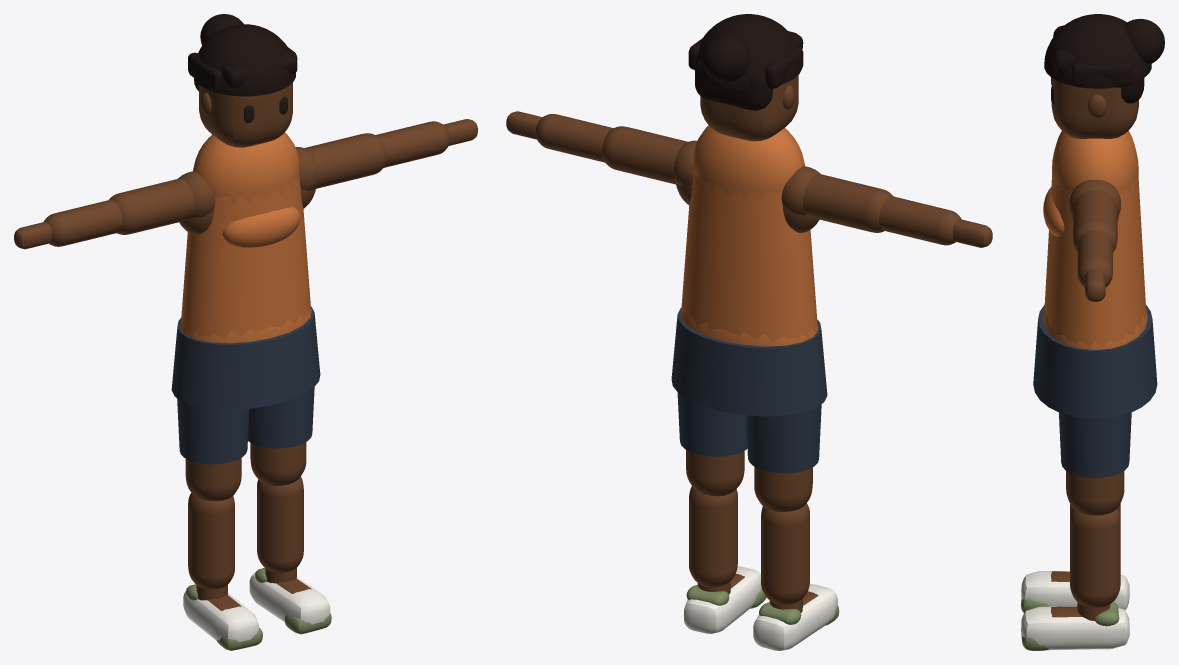
File: amara.glb
3 renders of one model, left to right at view 1: azimuth 30°, elevation 25°; view 2: azimuth 150°, elevation 25°; view 3: azimuth 270°, elevation 25°, orthographic. The views are drawn at different scales.
Parts seen in each view (by area): view 1: amara_tank_body, amara_bottom_waist, amara_top_shoulders, amara_hair_cap, amara_calf_l, amara_calf_r, amara_head, amara_bottom_leg_l, amara_upperarm_l, amara_upperarm_r, amara_bottom_leg_r, amara_forearm_l (+11 smaller); view 2: amara_tank_body, amara_bottom_waist, amara_top_shoulders, amara_calf_l, amara_calf_r, amara_bottom_leg_l, amara_hair_cap, amara_upperarm_l, amara_upperarm_r, amara_bottom_leg_r, amara_head, amara_forearm_l (+13 smaller); view 3: amara_tank_body, amara_bottom_waist, amara_calf_r, amara_hair_cap, amara_top_shoulders, amara_bottom_leg_r, amara_head, amara_shoe_r, amara_thigh_r, amara_upperarm_r, amara_shoe_l, amara_forearm_r (+13 smaller).
Boxes of the visible parts, x1,y1,x2,y2 form: amara_tank_body: [181, 176, 310, 338]; amara_bottom_waist: [171, 306, 320, 409]; amara_top_shoulders: [192, 132, 299, 205]; amara_hair_cap: [194, 24, 295, 96]; amara_calf_l: [188, 493, 234, 589]; amara_calf_r: [257, 476, 303, 572]; amara_head: [199, 82, 292, 147]; amara_bottom_leg_l: [177, 398, 249, 464]; amara_upperarm_l: [109, 178, 195, 234]; amara_upperarm_r: [304, 133, 386, 188]; amara_bottom_leg_r: [248, 387, 314, 448]; amara_forearm_l: [43, 199, 122, 246]; amara_tank_body: [681, 171, 817, 341]; amara_bottom_waist: [671, 308, 827, 416]; amara_top_shoulders: [693, 125, 804, 201]; amara_calf_l: [761, 503, 809, 605]; amara_calf_r: [689, 486, 737, 587]; amara_bottom_leg_l: [746, 404, 821, 473]; amara_hair_cap: [694, 14, 801, 89]; amara_upperarm_l: [802, 173, 892, 232]; amara_upperarm_r: [602, 126, 687, 184]; amara_bottom_leg_r: [677, 392, 747, 456]; amara_head: [700, 75, 798, 141]; amara_forearm_l: [879, 196, 961, 245]; amara_tank_body: [1044, 178, 1145, 349]; amara_bottom_waist: [1033, 305, 1157, 418]; amara_calf_r: [1070, 508, 1120, 607]; amara_hair_cap: [1044, 14, 1151, 88]; amara_top_shoulders: [1052, 130, 1138, 194]; amara_bottom_leg_r: [1059, 412, 1131, 477]; amara_head: [1051, 78, 1138, 138]; amara_shoe_r: [1021, 606, 1129, 650]; amara_thigh_r: [1066, 471, 1124, 515]; amara_upperarm_r: [1073, 190, 1117, 252]; amara_shoe_l: [1021, 571, 1129, 610]; amara_forearm_r: [1077, 229, 1112, 287].
Size of the model in its own units: 1.45 by 1.77 by 0.3792.
